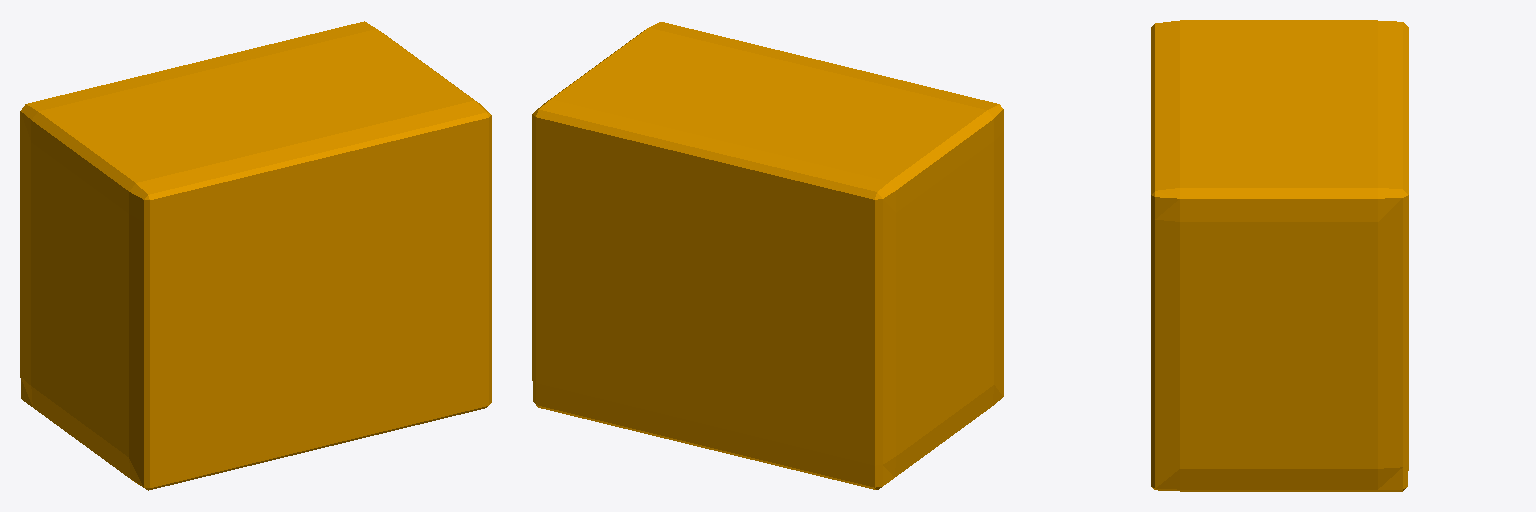
The robot description file, URDF, robot "cylinder_box_9":
<?xml version="1.0" encoding="utf-8"?>  <robot name="cylinder_box_9">   <link name="cylinder_box_9">     <visual>       <geometry>         <mesh filename="../meshes/box/box_9.stl" scale="1 1 1"/>       </geometry>     </visual>     <collision>       <geometry>         <mesh filename="../meshes/box/box_9.stl" scale="1 1 1"/>       </geometry>     </collision>     <inertial>        <origin         xyz="0 0 0"         rpy="0 0 0" />       <mass value="0.2927296880000559"/>       <origin rpy="0 0 0" xyz="0 0 0"/>       <inertia ixx="0.0001762588819012795" ixy="4.918493260919266e-09" ixz="7.0937853743363765e-09" iyy="0.0002809229518643769" iyz="-2.363963991502638e-08" izz="0.00023530771703173412"/>     </inertial>   </link>  </robot>

--- What the picture shows (computed from the rendered views, not written in the file) ---
The picture shows the robot from 3 angles, left to right: view 1: azimuth 30°, elevation 25°; view 2: azimuth 150°, elevation 25°; view 3: azimuth 270°, elevation 25°; orthographic projection.
Model cylinder_box_9 with 1 links and 0 joints (none), rooted at cylinder_box_9, posed all joints at 0.
Visible links, largest first — view 1: cylinder_box_9; view 2: cylinder_box_9; view 3: cylinder_box_9.
Link boxes in pixels (left/top/right/bottom): cylinder_box_9: left=20, top=21, right=491, bottom=490; cylinder_box_9: left=532, top=22, right=1003, bottom=489; cylinder_box_9: left=1151, top=20, right=1408, bottom=491.
Bounding box of the posed robot: 0.0838 × 0.0519 × 0.0676 m (x, y, z).
1 mesh visuals loaded from 1 distinct referenced files (1 binary STL).